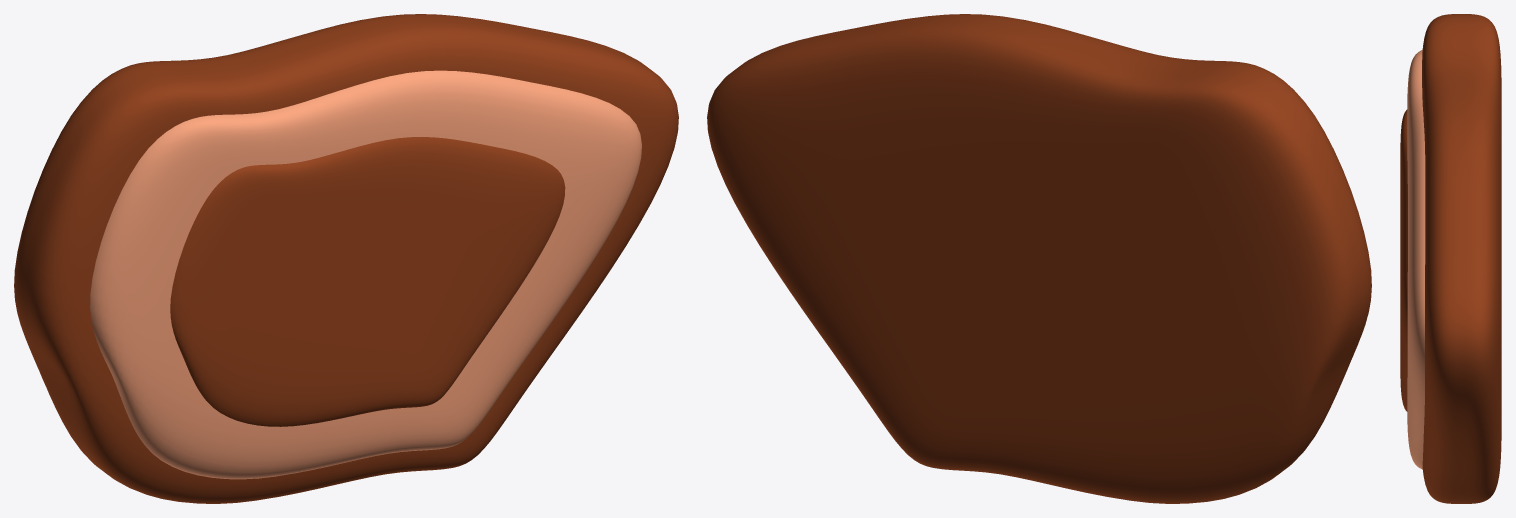
The model's file is meat.glb.
3 views of the same model, side by side, from view 1: azimuth 30°, elevation 25°; view 2: azimuth 150°, elevation 25°; view 3: azimuth 270°, elevation 25° (orthographic). The views are drawn at different scales.
Parts seen in each view (by area): view 1: Cube 3, Cube 2, Cube; view 2: Cube; view 3: Cube, Cube 2, Cube 3.
Boxes of the visible parts, left/top/right/bottom form: Cube 3: left=170, top=137, right=565, bottom=426; Cube 2: left=90, top=70, right=641, bottom=479; Cube: left=14, top=14, right=678, bottom=503; Cube: left=707, top=14, right=1371, bottom=503; Cube: left=1422, top=14, right=1501, bottom=503; Cube 2: left=1407, top=50, right=1425, bottom=469; Cube 3: left=1400, top=109, right=1407, bottom=411.
Size of the model in its own units: 1.17 by 0.7887 by 0.1986.
